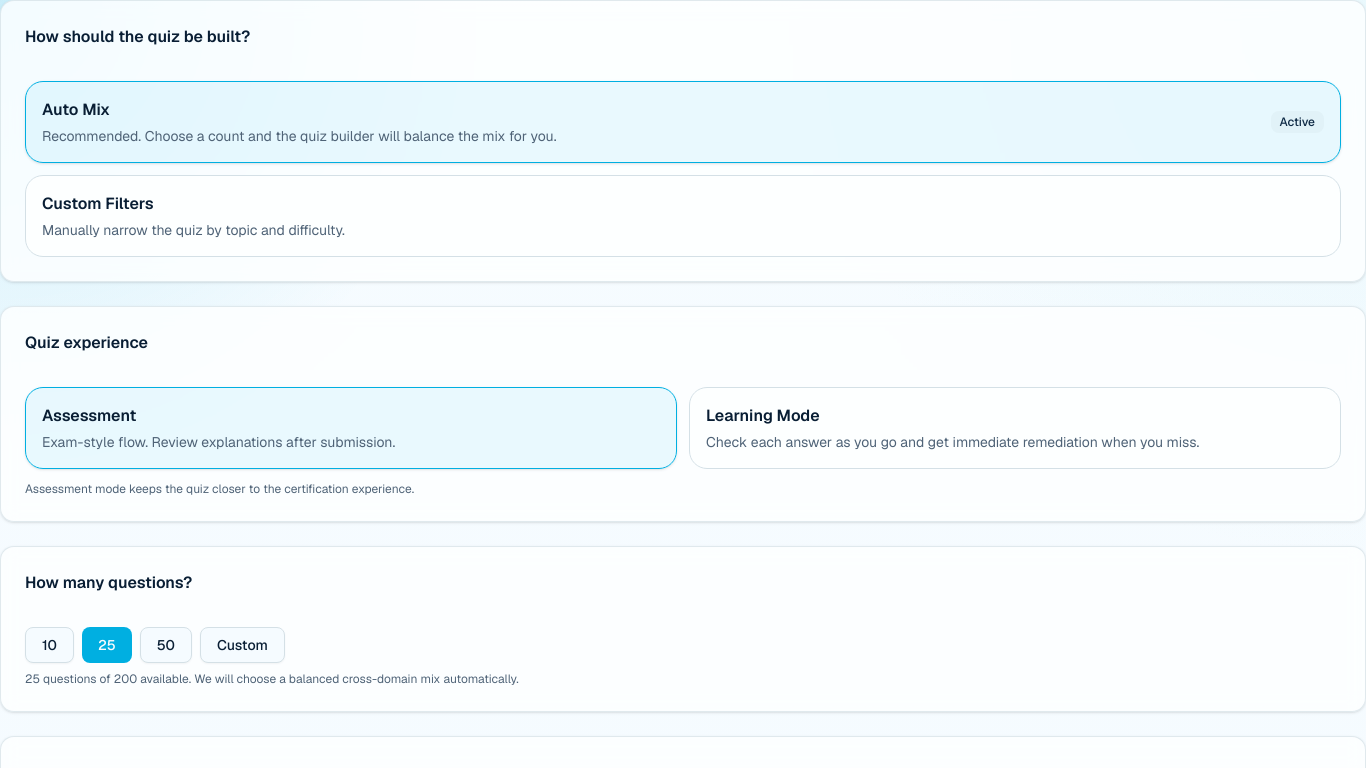
Test: QuizConfigForm › shows the custom count input when Custom is clicked
The width and height of the screenshot is (1366, 768).
Click the button "Custom". click: x=242, y=645
box: left=200, top=627, right=285, bottom=663
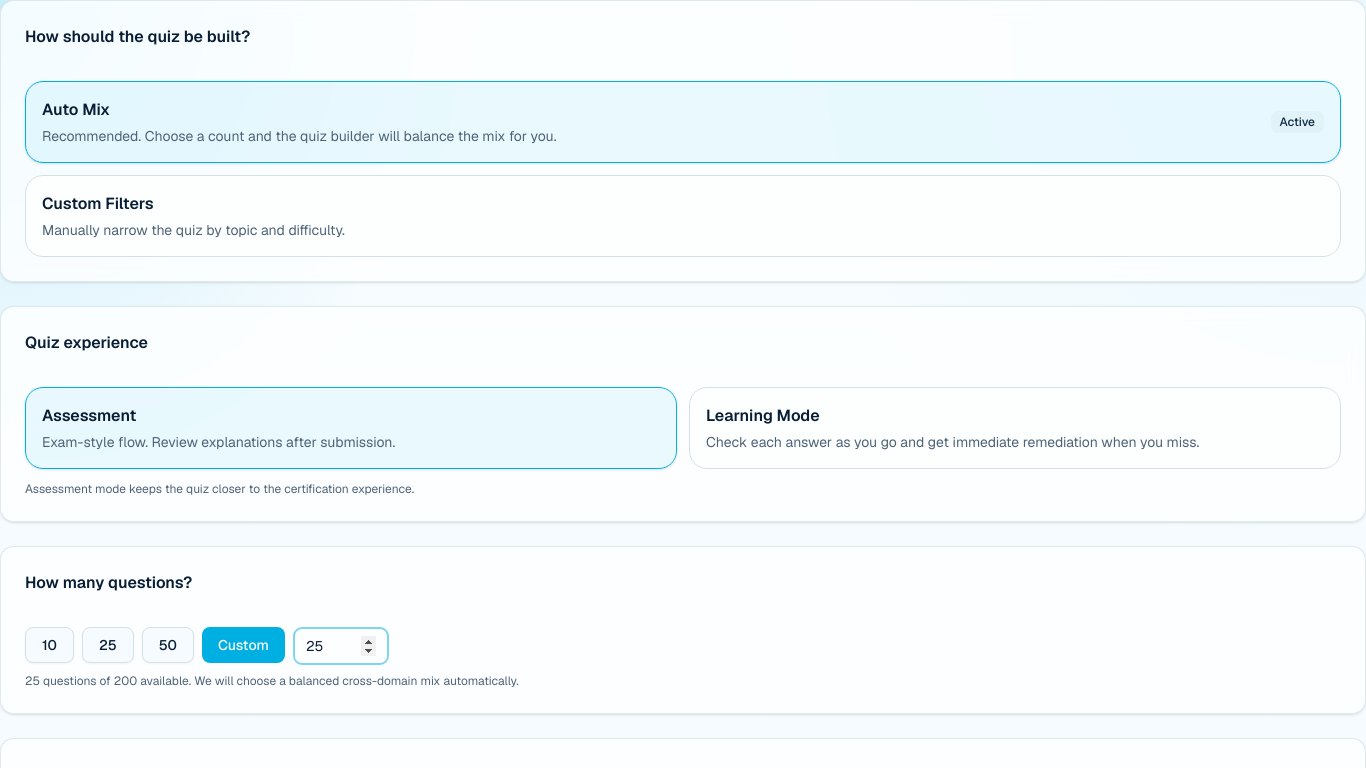
Now the number field is shown, box left=293, top=627, right=389, bottom=665
